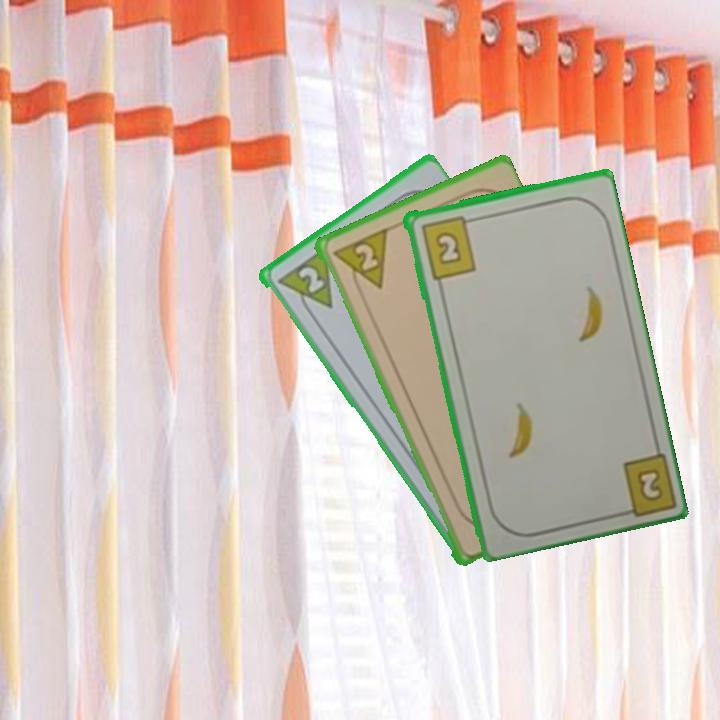2b: (611, 447, 676, 519), (417, 212, 479, 282)
2p: (328, 225, 390, 299), (294, 262, 327, 296)
